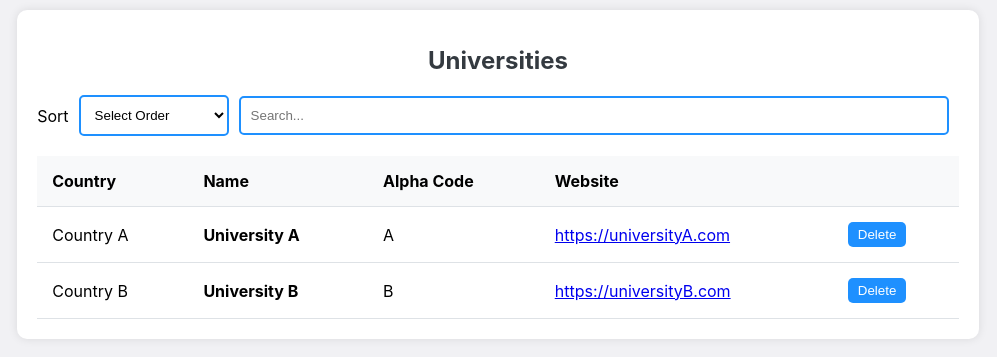
Test: handles search input
Type "A" into the field with placeholder "Search..." at (594, 116), box [239,96,949,135]
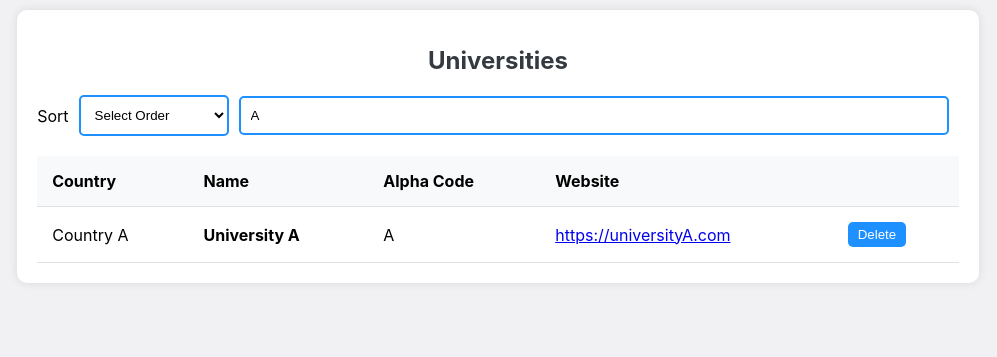
Expected: the text "University A" is shown, [204,225,300,245]
Result: the text "University B" is gone
